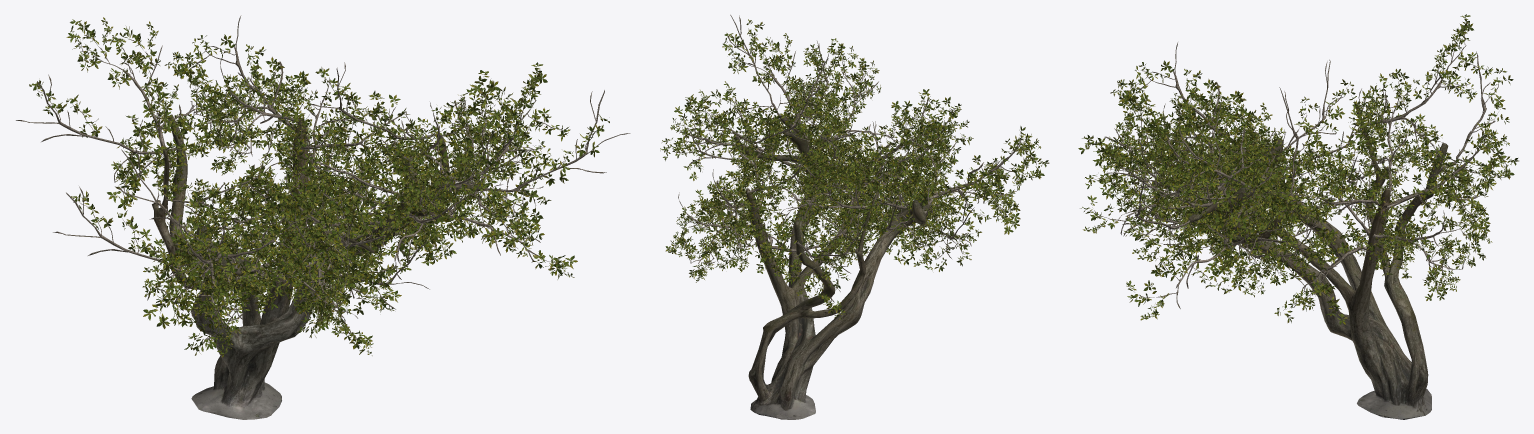
File: olive_tree.glb
The picture shows the model from 3 angles, left to right: view 1: azimuth 30°, elevation 25°; view 2: azimuth 150°, elevation 25°; view 3: azimuth 270°, elevation 25°; orthographic projection. The views are drawn at different scales.
Parts seen in each view (by area): view 1: island_tree_02_LOD0; view 2: island_tree_02_LOD0; view 3: island_tree_02_LOD0.
Boxes of the visible parts, x1,y1,x2,y2 form: island_tree_02_LOD0: (16, 15, 630, 419); island_tree_02_LOD0: (660, 14, 1049, 419); island_tree_02_LOD0: (1078, 14, 1518, 419).
Bounding box in the file's own units: 4.21 × 3.41 × 4.07.
Materials: 3 (3 with a texture image).
